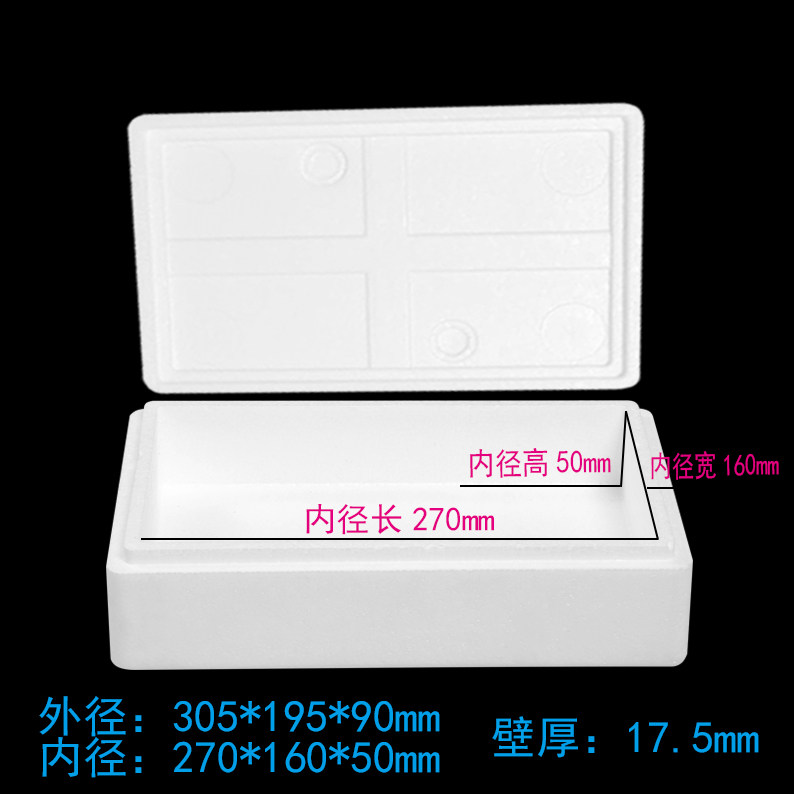泡沫箱: (107, 400, 692, 670)
